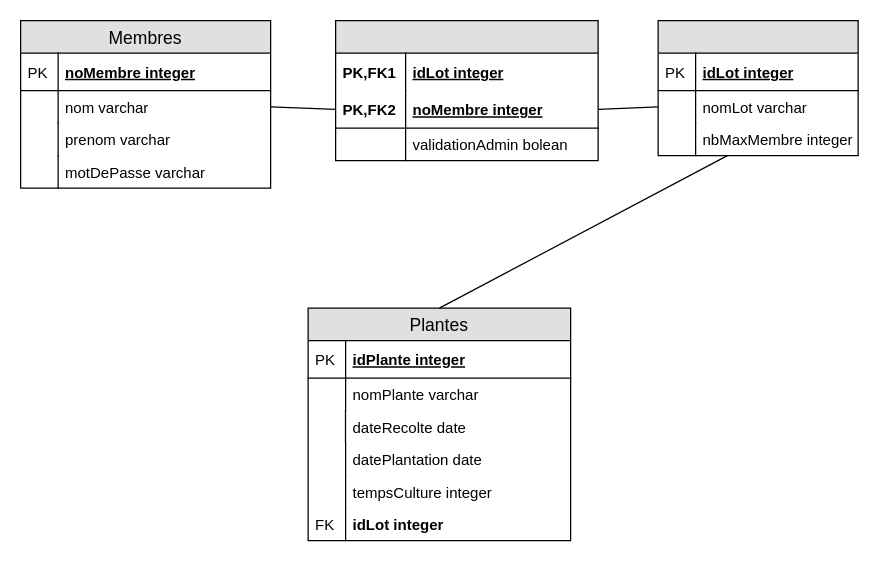
Image size: 879x561. Some labels were removed from this diagram. Here are the shapes that lost their labels. From the top down, the box of each, then its label:
(334, 19, 598, 161): MembresLots
(657, 19, 858, 156): Lots
